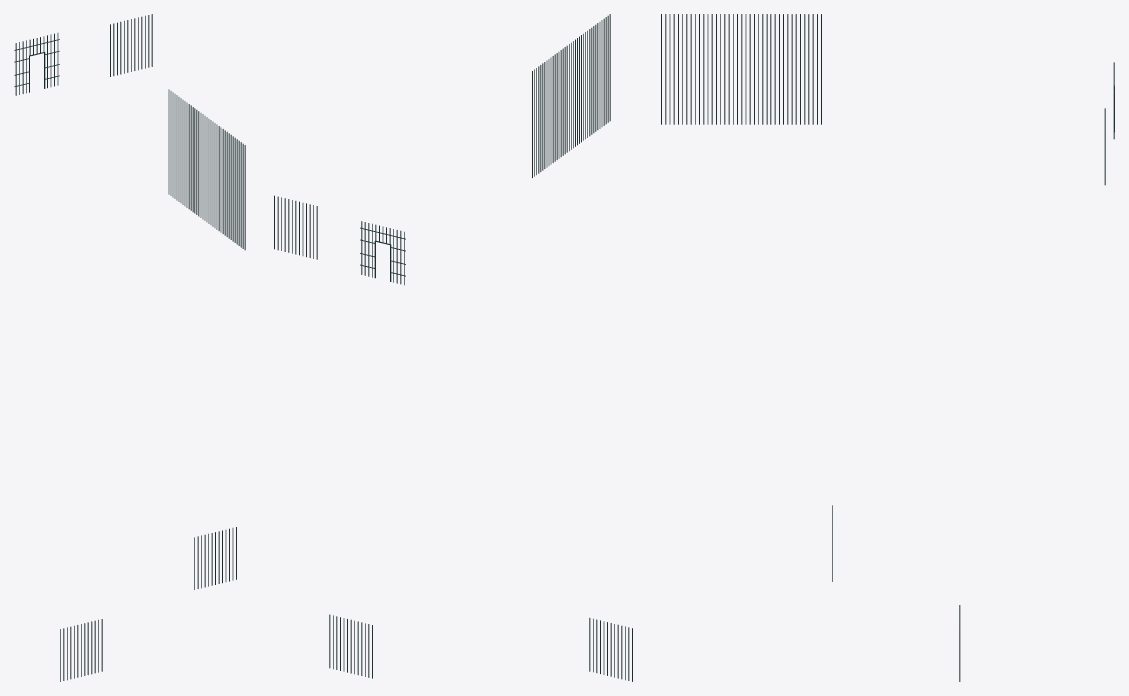
The model's file is bars.glb.
3 views of the same model, side by side, from view 1: azimuth 30°, elevation 25°; view 2: azimuth 150°, elevation 25°; view 3: azimuth 270°, elevation 25° (orthographic). The views are drawn at different scales.
Parts seen in each view (by area): view 1: Bars.008; view 2: Bars.008; view 3: Bars.008.
Boxes of the visible parts, left/top/right/bottom form: Bars.008: left=14, top=14, right=245, bottom=681; Bars.008: left=274, top=14, right=632, bottom=681; Bars.008: left=661, top=14, right=1114, bottom=681.
Size of the model in its own units: 15.84 by 36.4 by 24.98.
Materials: 1 (1 with a texture image).
